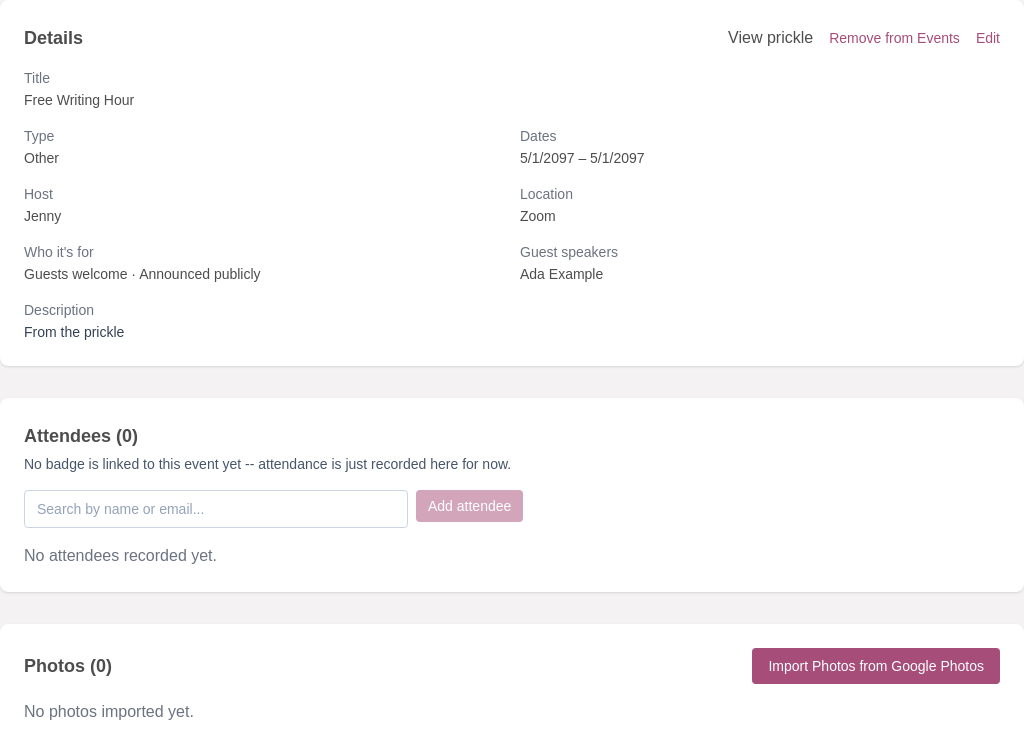
Scenario: admin event on a calendar prickle › edits the title, description, host, speaker and location here, with the dates read-only
Click the button "Edit" at (988,38), box [976, 26, 1000, 50]
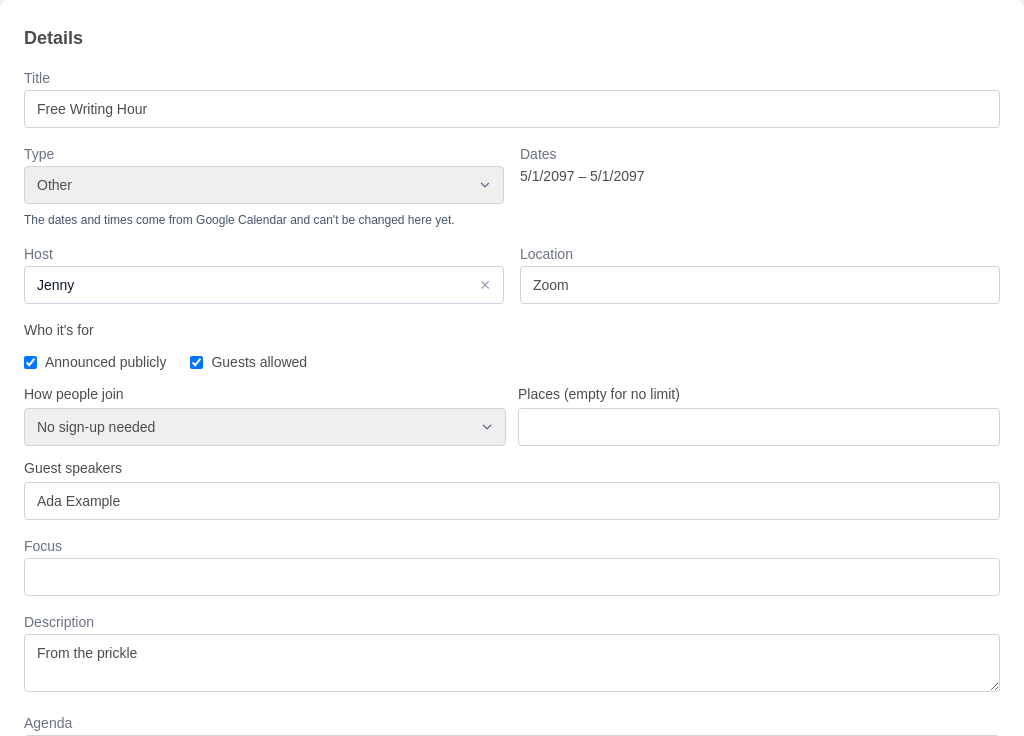
Expected: the field labelled "Title" holds "Free Writing Hour", [24, 90, 1000, 128]
Expected: the field labelled "Location" holds "Zoom", [520, 266, 1000, 304]
Expected: the text box labelled "Description" holds "From the prickle", [24, 634, 1000, 692]
